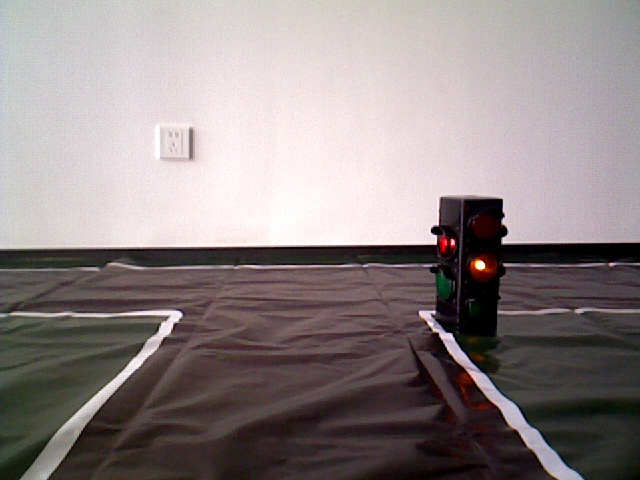yellow: (437, 199, 497, 336)
